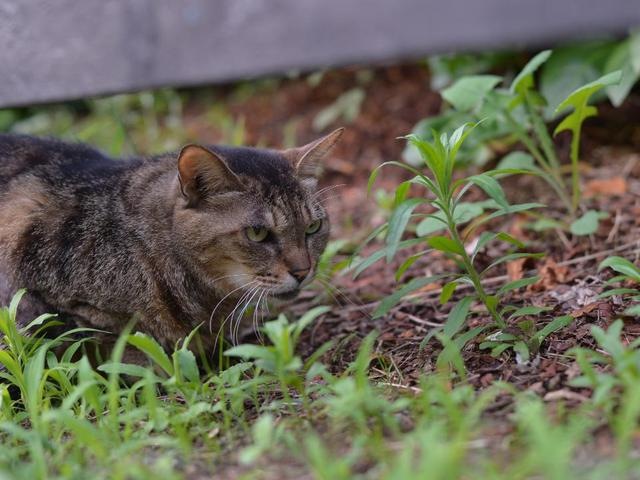cat: (4, 96, 358, 382)
